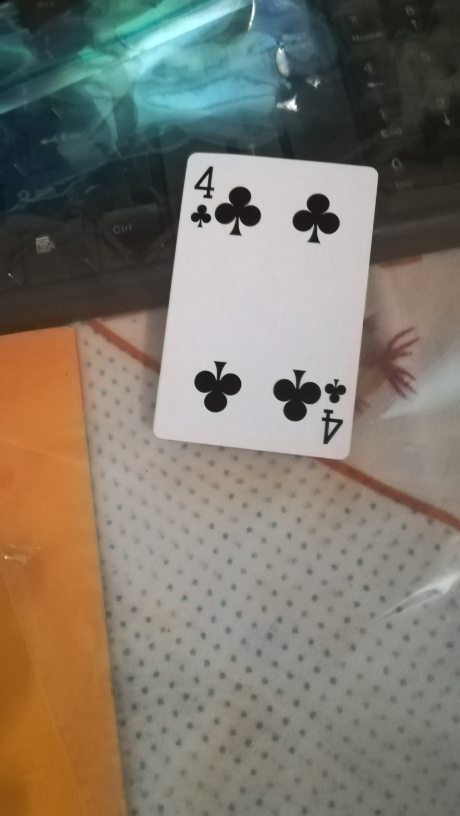mh 4: (149, 148, 380, 461)
